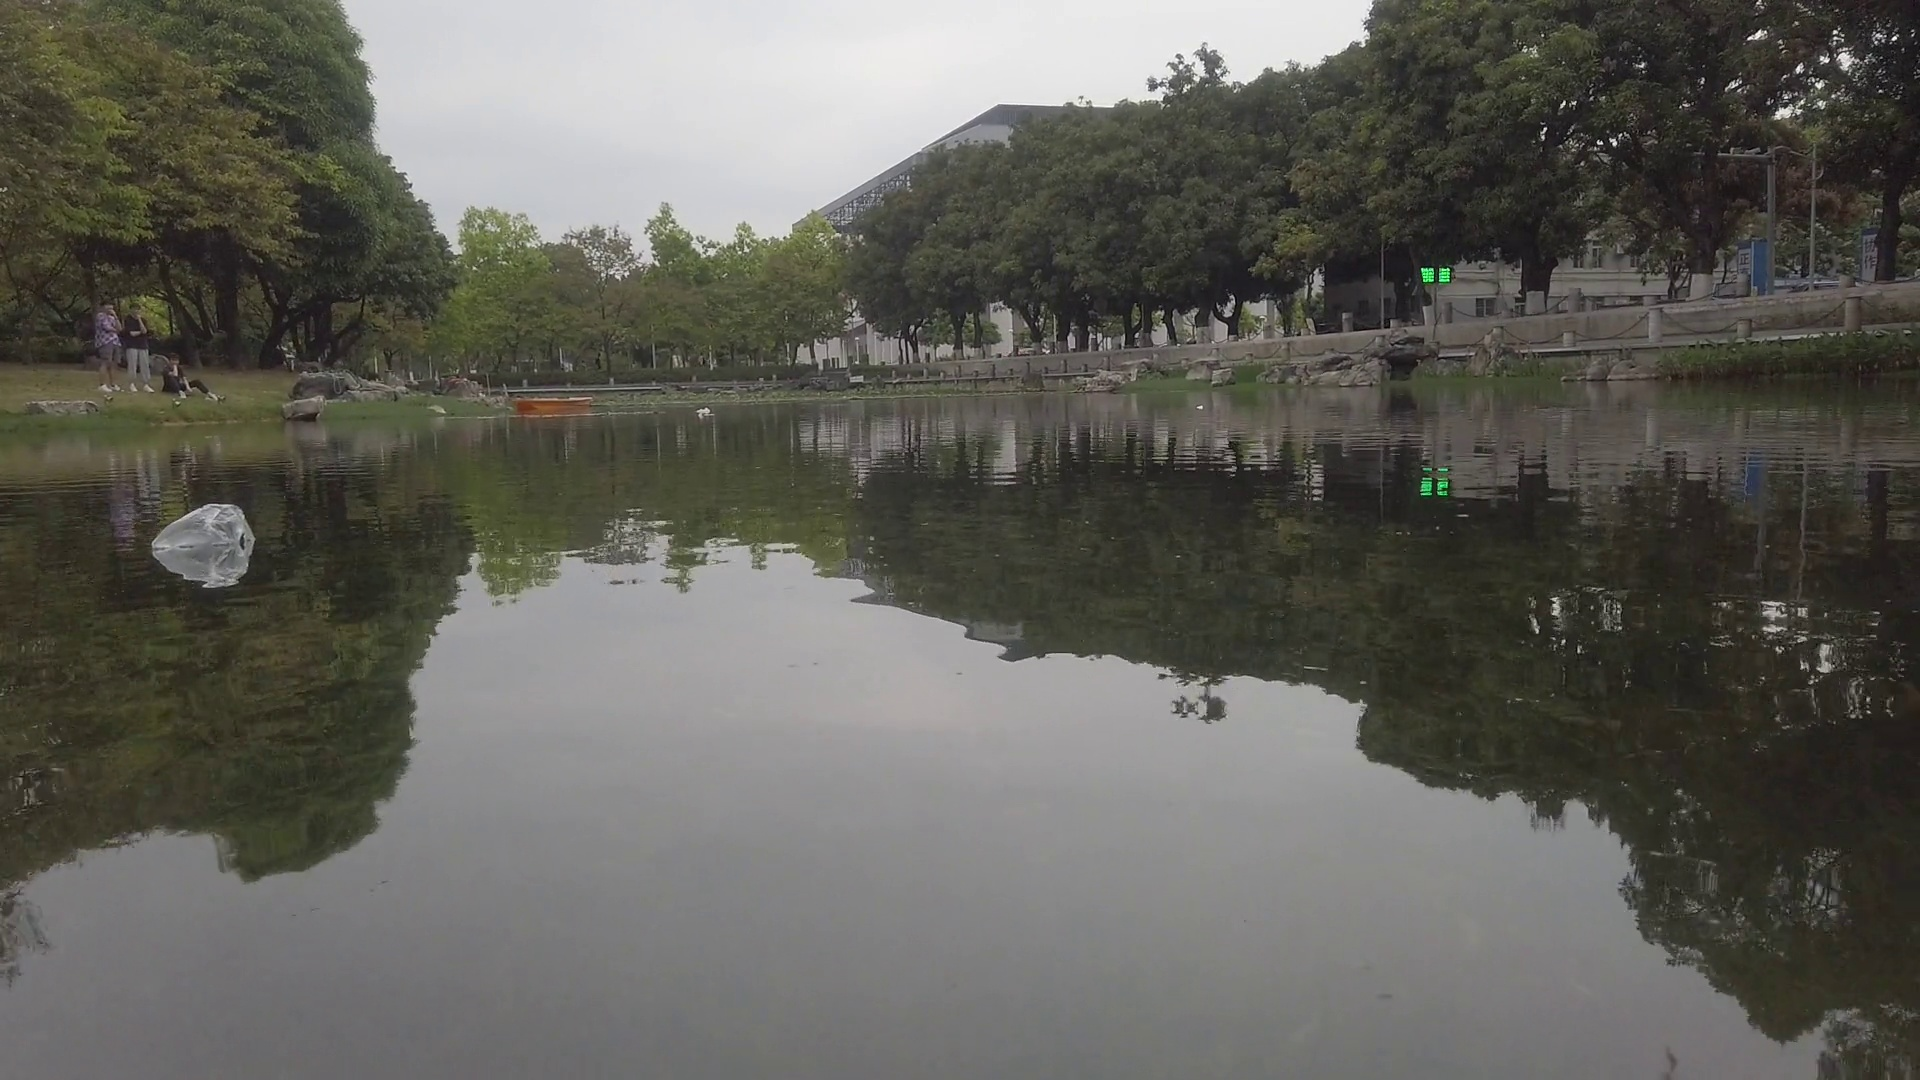paper: (1189, 404, 1204, 414)
plastic: (152, 502, 257, 549), (695, 407, 713, 415)
